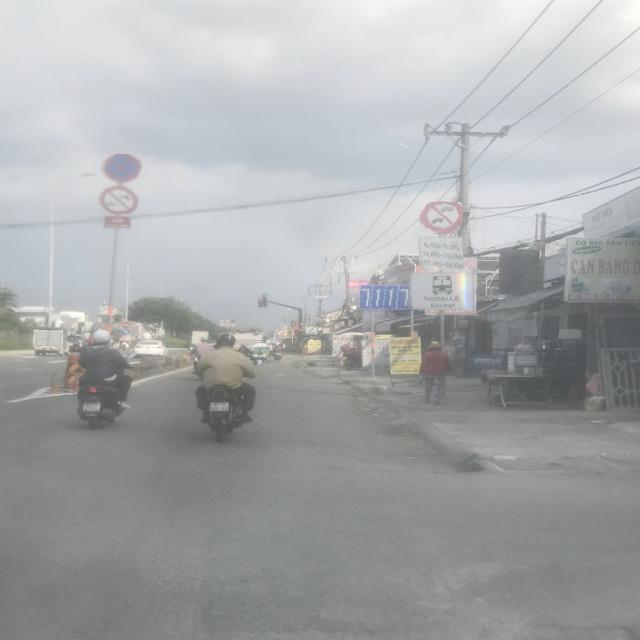cam_dung_xe_va_do_xe: (102, 154, 142, 182)
cam_o_to_tai_va_xe_khach: (420, 202, 463, 234)
cam_xe_2_banh_va_xe_3_banh_co_dong_co: (100, 185, 138, 214)
cam_xe_di_nguoc_chieu: (122, 322, 130, 328)
huong_di_tren_moi_lan_duong_theo_vach_ke_duong: (360, 285, 411, 309)
huong_phai_di_vuot_chuong_ngai_vat_phai: (121, 328, 130, 335)
khac: (410, 272, 473, 310), (419, 238, 463, 270)
